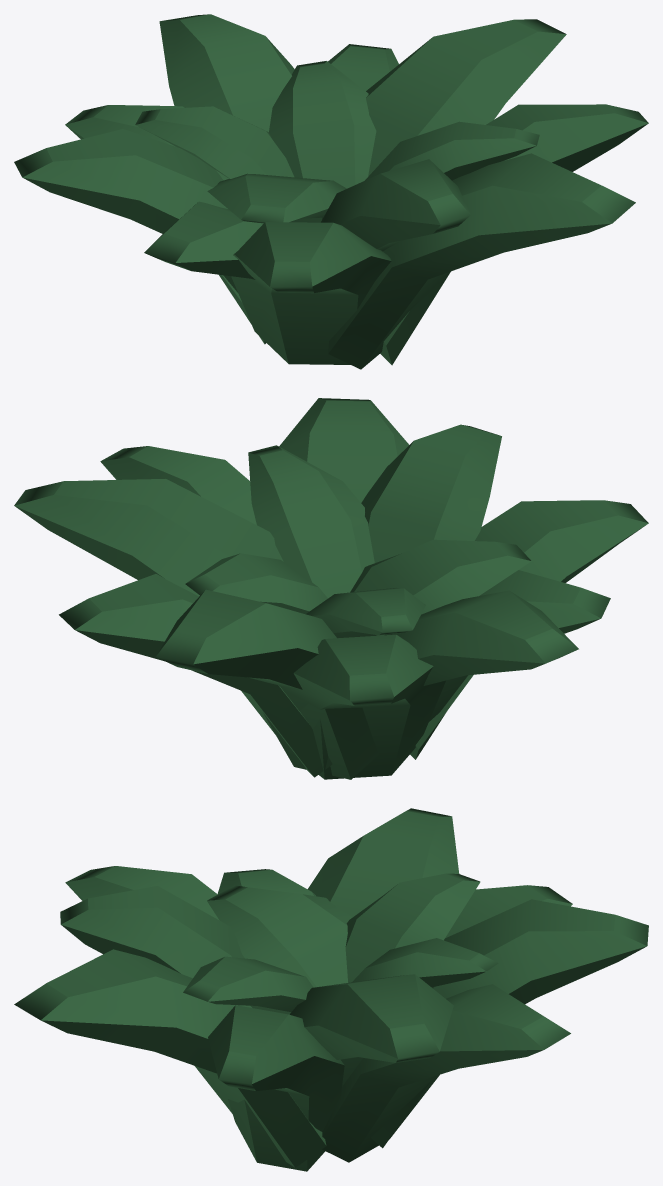
The model's file is moita.fbx.
3 renders of one model, top to bottom at view 1: azimuth 30°, elevation 25°; view 2: azimuth 150°, elevation 25°; view 3: azimuth 270°, elevation 25°, orthographic. The views are drawn at different scales.
Parts seen in each view (by area): view 1: moita; view 2: moita; view 3: moita.
Part boxes in pixels (box(x1,y1,x2,y2)): moita: box(14, 14, 648, 369); moita: box(14, 398, 648, 779); moita: box(14, 808, 648, 1171).
Bounding box in the file's own units: 4.3 × 1.9 × 4.31.
